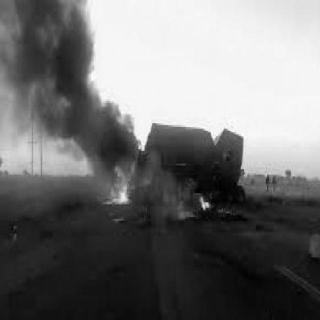Fire: (101, 151, 141, 207)
